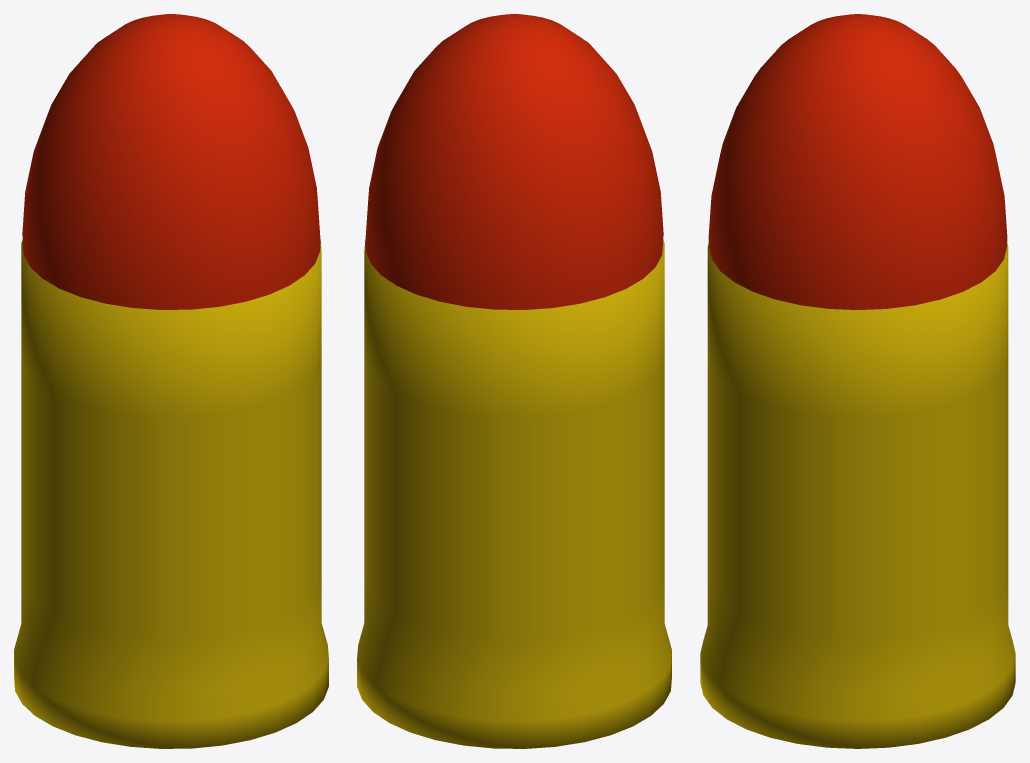
Rendered from shell.obj.
3 renders of one model, left to right at view 1: azimuth 30°, elevation 25°; view 2: azimuth 150°, elevation 25°; view 3: azimuth 270°, elevation 25°, orthographic.
Parts seen in each view (by area): view 1: Cylinder, Sphere; view 2: Cylinder, Sphere; view 3: Cylinder, Sphere.
Part boxes in pixels (box(x1,y1,x2,y2)): Cylinder: box(14, 239, 328, 748); Sphere: box(22, 14, 320, 309); Cylinder: box(357, 239, 671, 748); Sphere: box(365, 14, 663, 309); Cylinder: box(700, 242, 1015, 748); Sphere: box(708, 14, 1007, 309).
Size of the model in its own units: 0.3884 by 0.8969 by 0.3884.
